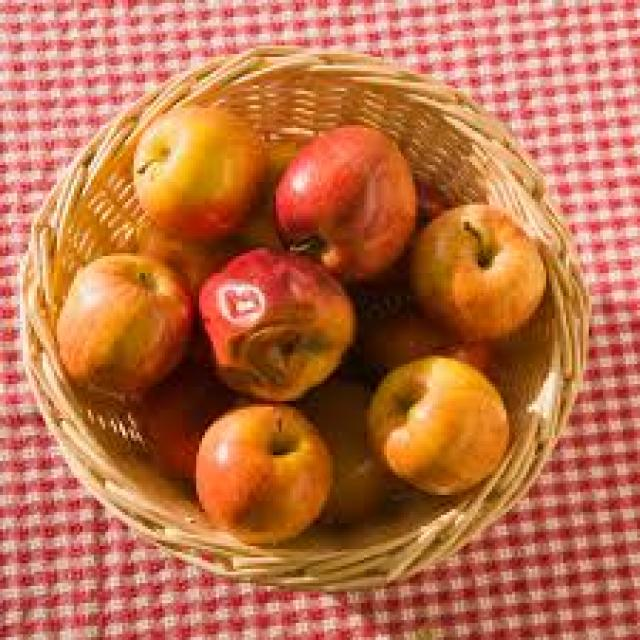organic waste: (265, 119, 418, 279), (193, 245, 350, 398), (404, 199, 543, 336), (52, 256, 194, 390), (191, 404, 330, 540), (364, 356, 504, 489), (131, 108, 267, 239), (299, 381, 404, 526), (344, 302, 484, 389), (134, 370, 222, 472), (134, 208, 250, 282), (384, 179, 458, 276), (230, 156, 304, 245)
